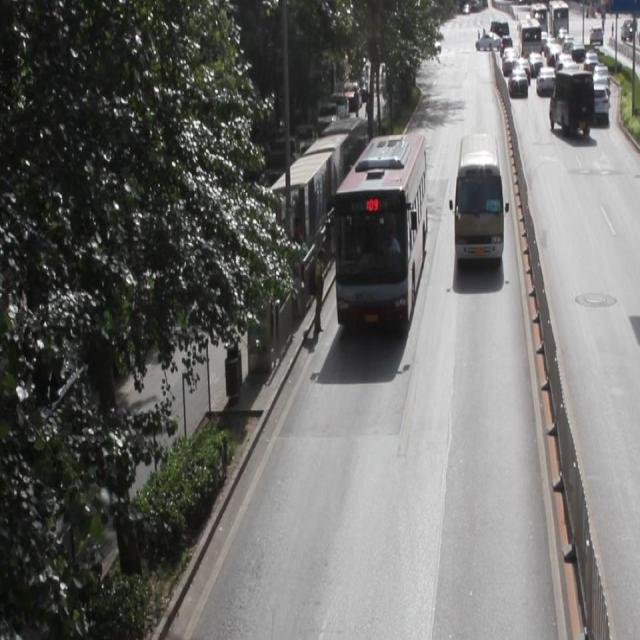truck: (452, 136, 503, 266)
van: (335, 132, 423, 327)
